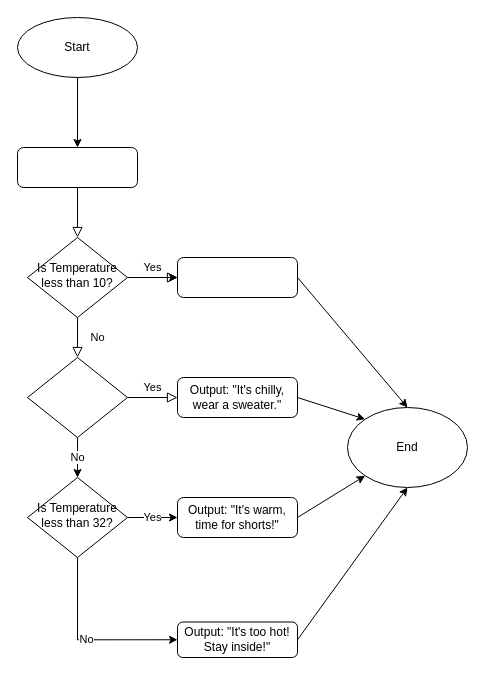
The diagram is 485 pixels wide and 675 high, and some of its shapes have lost their labels. The shapes that lost their labels are listed below. From the top down, each one's box as (x1, y1, x2, y2) in pixels, then its label:
(16, 146, 138, 188): Input: What is the Temperature?
(176, 256, 298, 298): Output: "It's cold! Being a jacket!"
(26, 356, 128, 438): Is Temperature less than 20?
